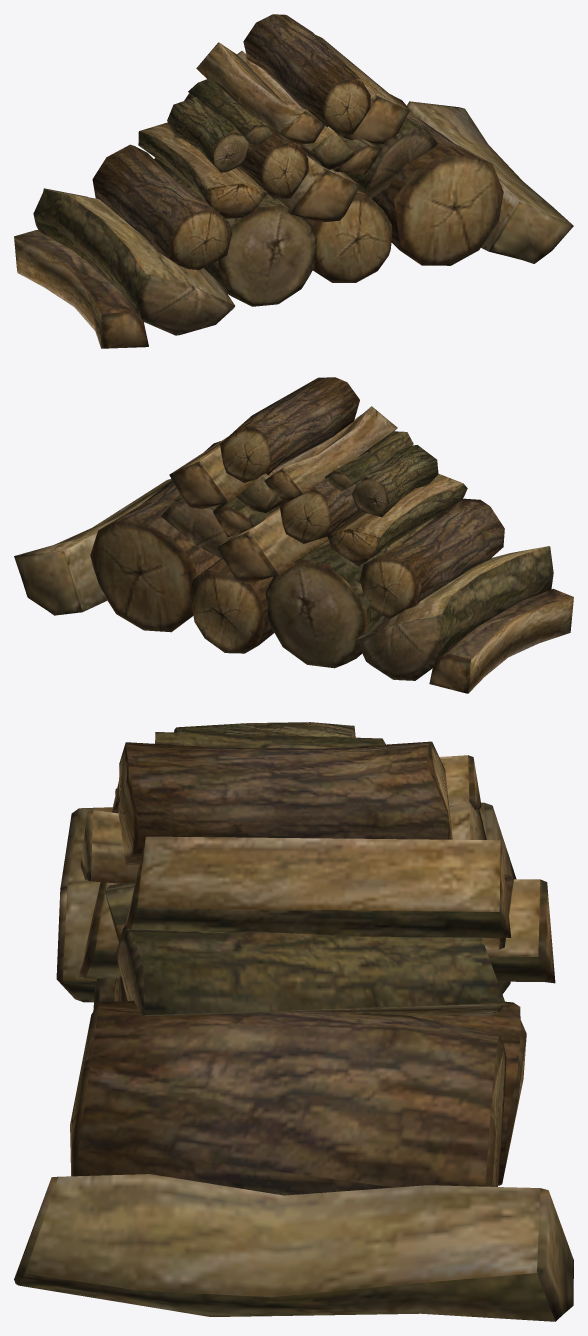
3 renders of one model, top to bottom at view 1: azimuth 30°, elevation 25°; view 2: azimuth 150°, elevation 25°; view 3: azimuth 270°, elevation 25°, orthographic. The views are drawn at different scales.
Visible parts, largest first — view 1: LV_Common_Object_A_Woodpile06_SM_CNH; view 2: LV_Common_Object_A_Woodpile06_SM_CNH; view 3: LV_Common_Object_A_Woodpile06_SM_CNH.
Part boxes in pixels (x1,y1,x2,y2): LV_Common_Object_A_Woodpile06_SM_CNH: [14, 14, 573, 348]; LV_Common_Object_A_Woodpile06_SM_CNH: [14, 377, 573, 693]; LV_Common_Object_A_Woodpile06_SM_CNH: [14, 722, 573, 1321].
Bounding box in the file's own units: 0.3721 × 0.1708 × 0.1999.
Materials: 1 (1 with a texture image).
